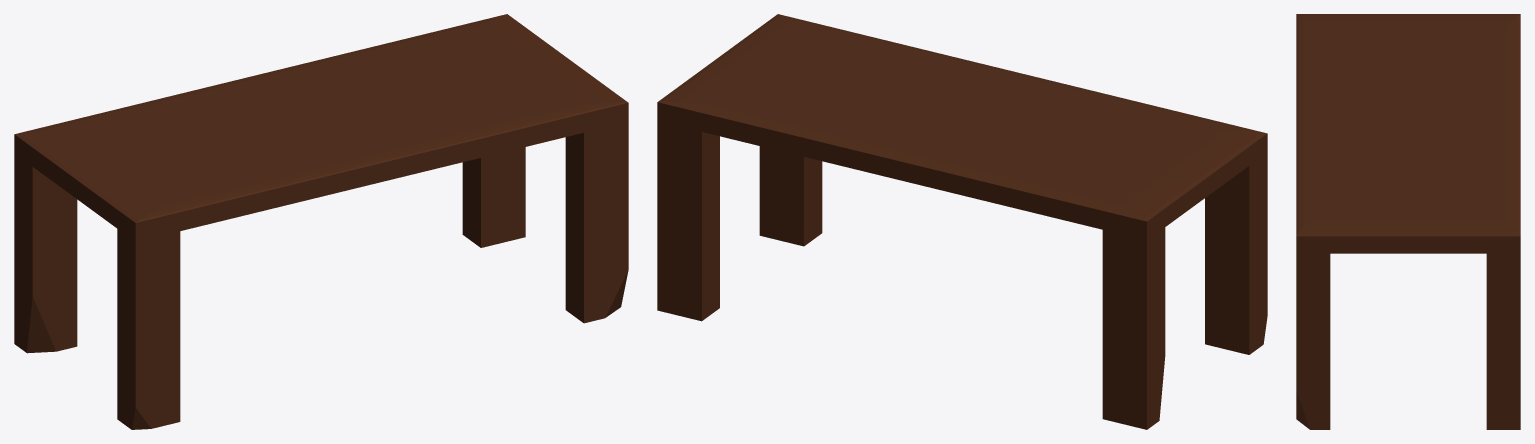
File: masa.glb
3 views of the same model, side by side, from view 1: azimuth 30°, elevation 25°; view 2: azimuth 150°, elevation 25°; view 3: azimuth 270°, elevation 25° (orthographic). The views are drawn at different scales.
Visible parts, largest first — view 1: Cube.087; view 2: Cube.087; view 3: Cube.087.
Boxes of the visible parts, left/top/right/bottom form: Cube.087: left=14, top=14, right=628, bottom=429; Cube.087: left=657, top=14, right=1267, bottom=429; Cube.087: left=1296, top=14, right=1520, bottom=429.
Size of the model in its own units: 7.92 by 3.24 by 3.38.
